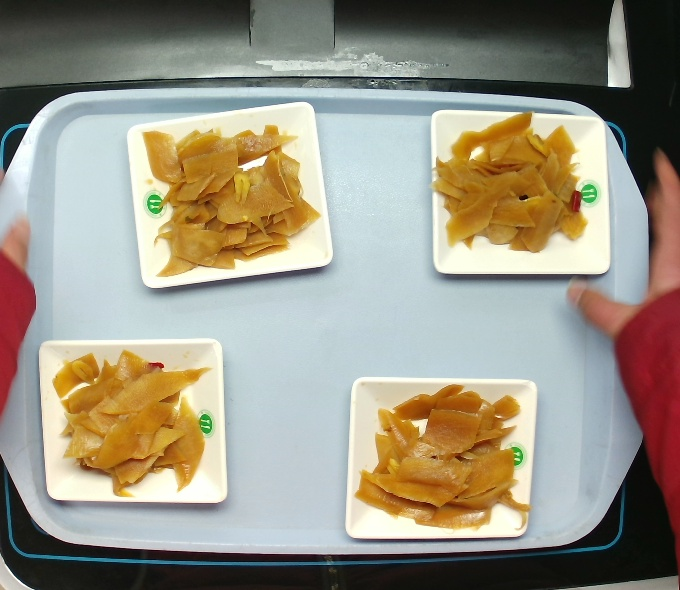wcq-JiangLuoBo: (358, 369, 527, 547), (59, 337, 211, 501), (143, 127, 305, 273), (440, 110, 588, 263)
